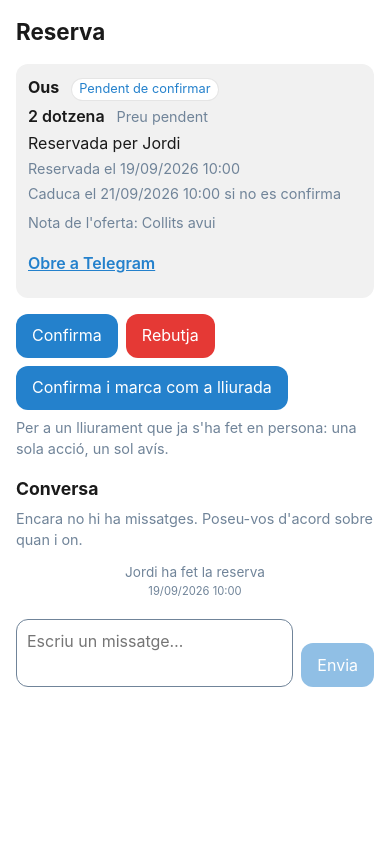
it: Reservation detail (PRD US-4.2–4.4, ADR-0014) › confirms in one tap and shows the new state and actions
Expected: the element with test id "reservation-detail" is shown, [16,64,374,298]
What coordinates should you click on to do the following:
click the button "Confirma"
I would click on:
 (67, 336)
Its box is [16,314,118,358].
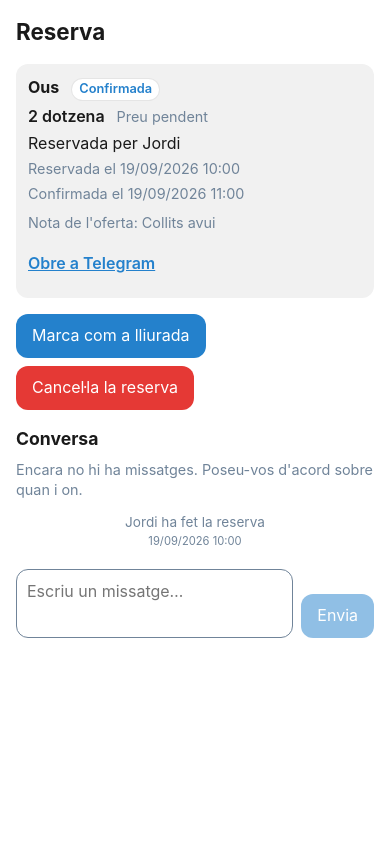
Expected: the text with test id "confirmed-at" shows "Confirmada el 19/09/2026", [28,185,244,202]
Expected: the buttons read "Marca com a lliurada", "Cancel·la la reserva", in this order, [16,314,206,358]; [16,366,194,410]
